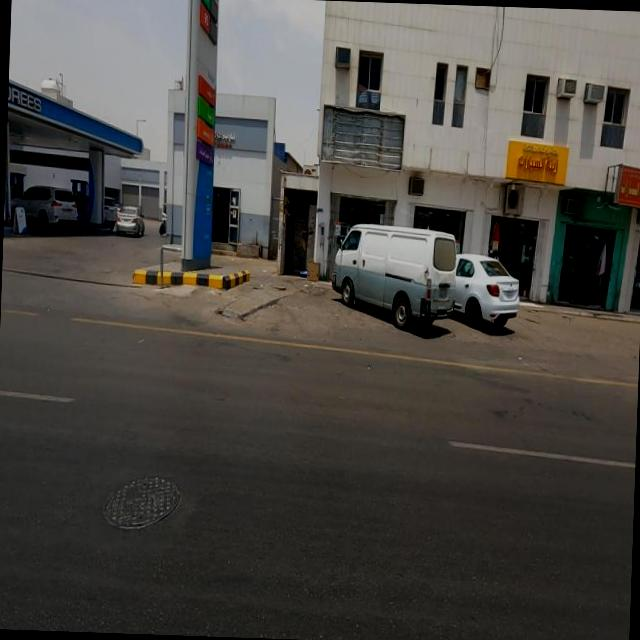debris: (262, 49, 468, 228), (287, 248, 325, 304)
